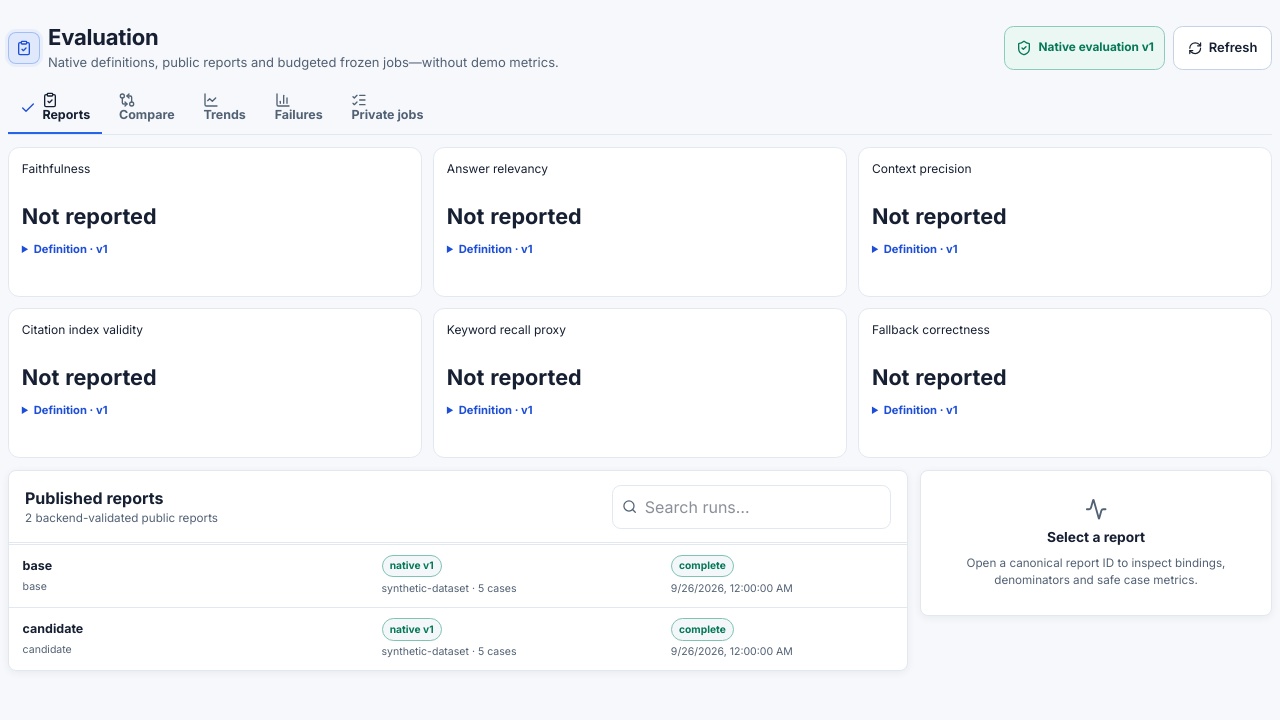
Scenario: backend-owned analytics › empty trends are truthful and contain no SVG observations
Expected: the button "base" is shown, [9,544,907,607]
Step 1. Click the tab "Trends" → (225, 109), box [191,84,258,134]
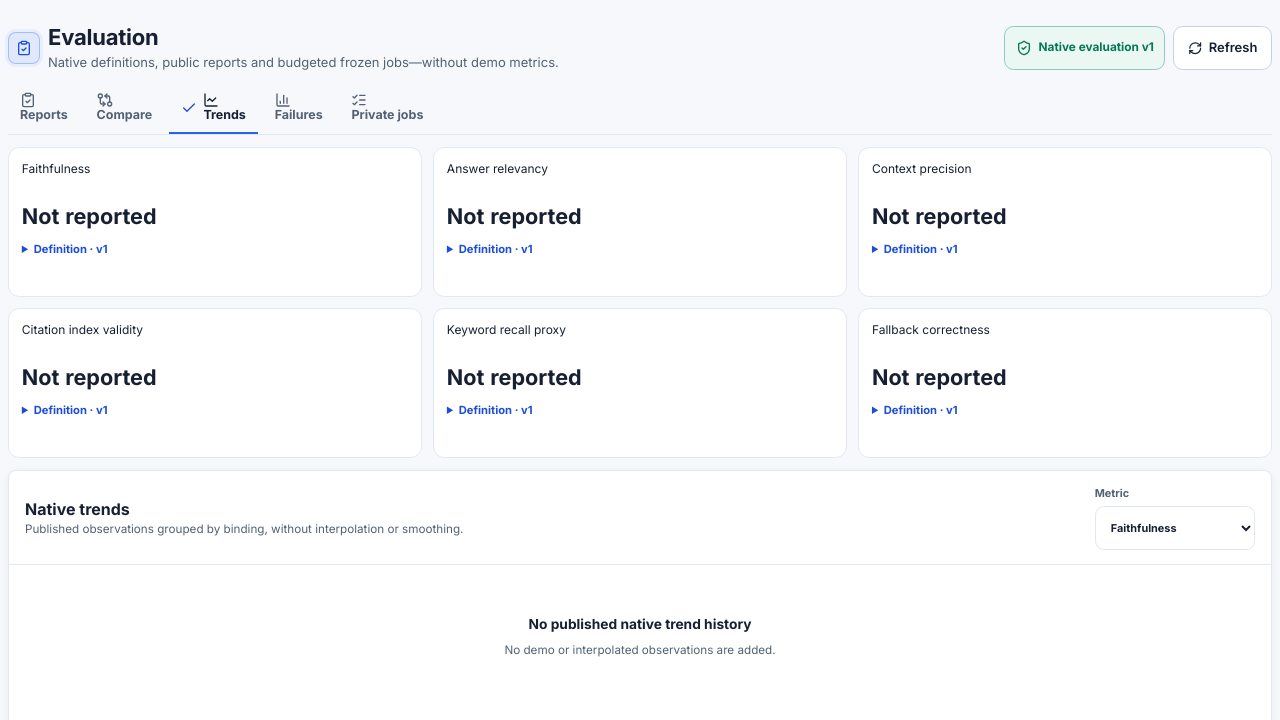
Expected: the text "No published native trend history" is shown, [528,614,752,635]
Expected: the text "No demo or interpolated observations are added." is shown, [504,642,776,659]
